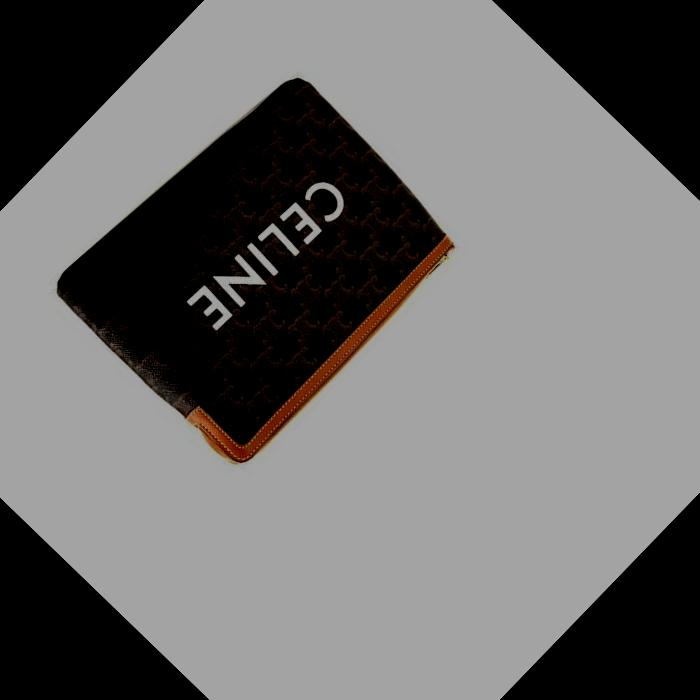CELINE: (184, 166, 351, 337)
